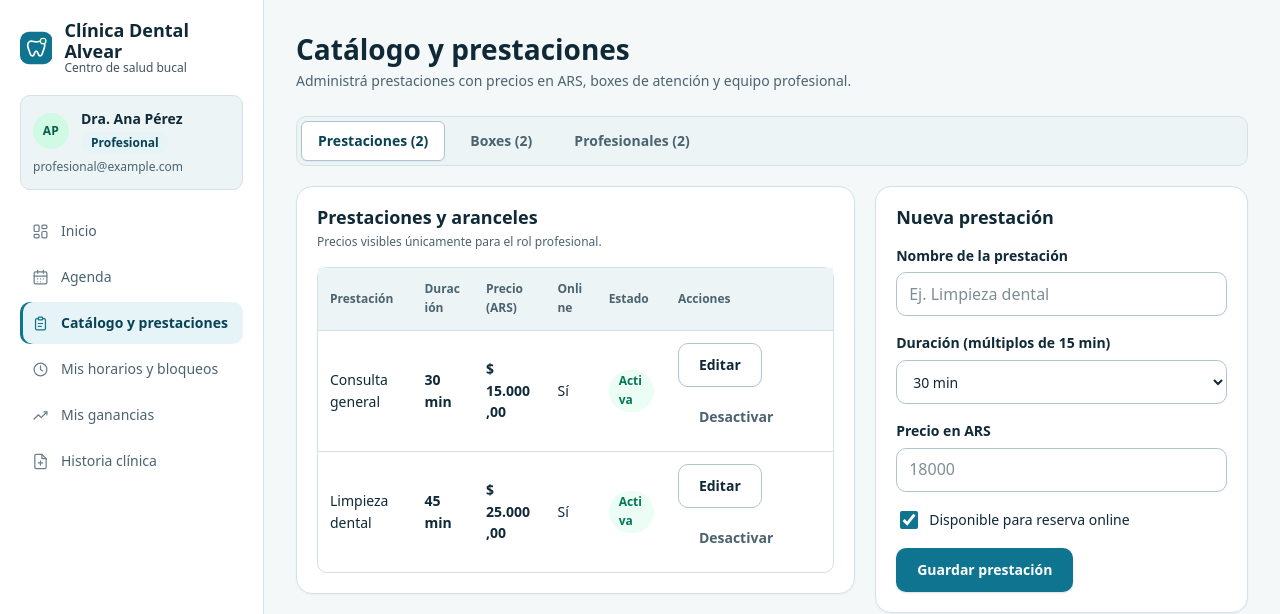
Scenario: Catálogo de prestaciones, boxes y profesionales › Selector de duración en múltiplos de 15 y alerta defensiva DURACION_INVALIDA
This screenshot has width=1280, height=614.
Expected: the text "Consulta general" is shown, 318,330 -> 412,451
Step 1. Type "Prueba duración" into the field labelled "Nombre de la prestación" → (1062, 294), box 896,272 -> 1227,316
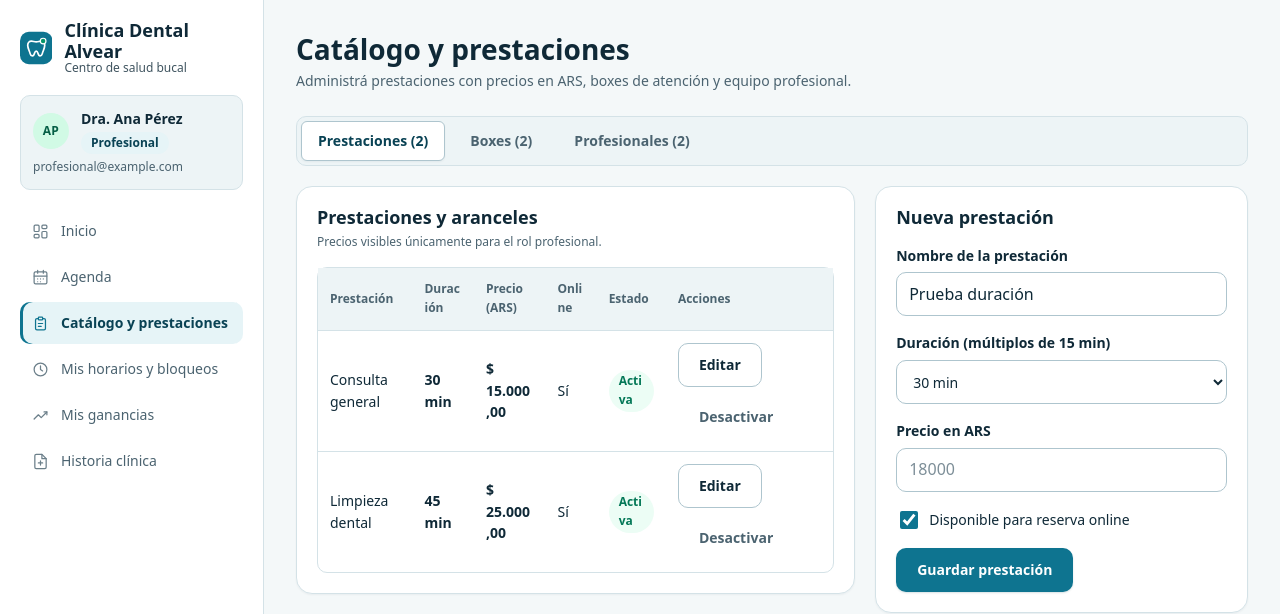
Step 2. Type "12000" into the number field labelled "Precio en ARS" → (1062, 470), box 896,448 -> 1227,492
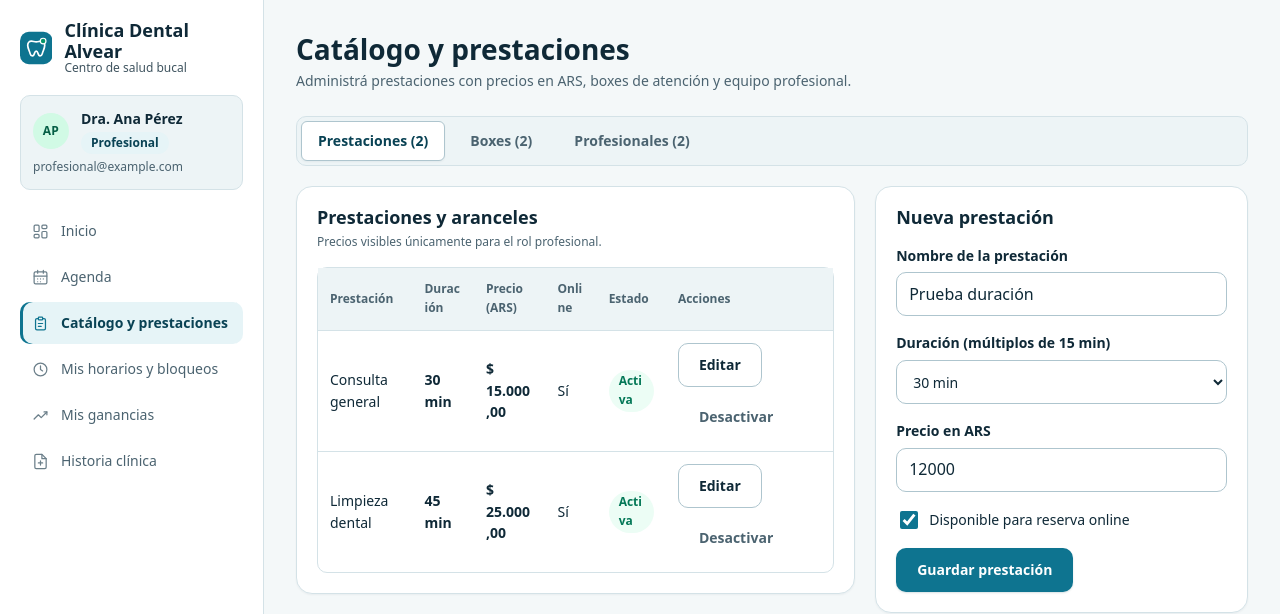
Step 3. Click the button "Guardar prestación" → (985, 570), box 896,548 -> 1073,592
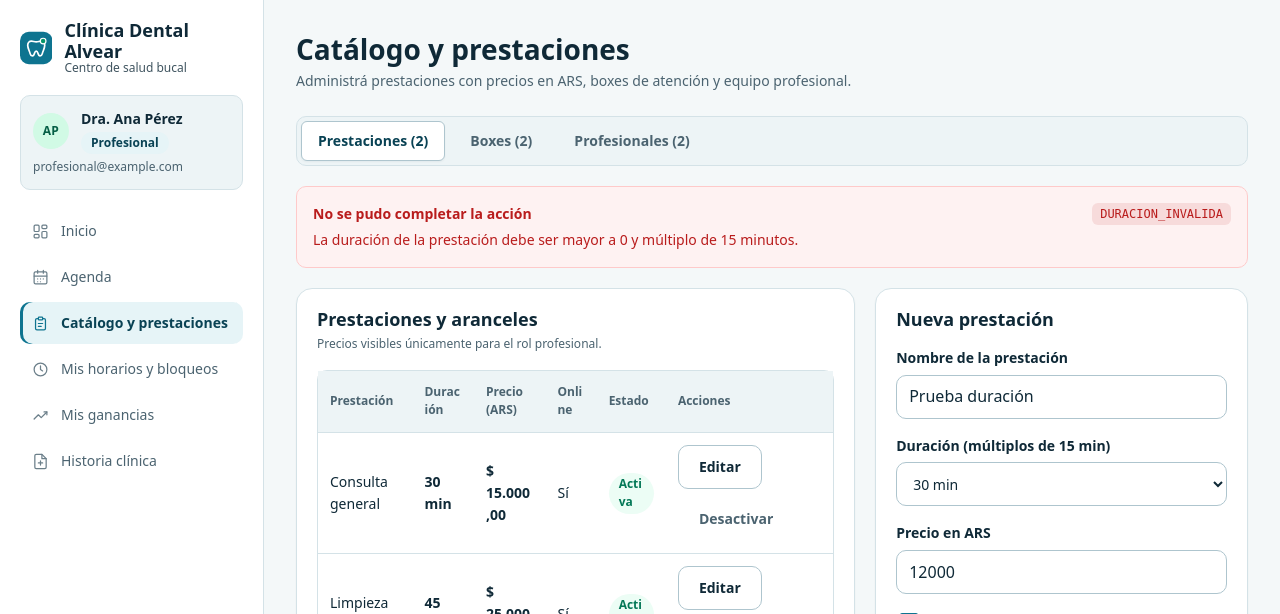
Now the message shows "DURACION_INVALIDA", box 1100,207 -> 1223,221
